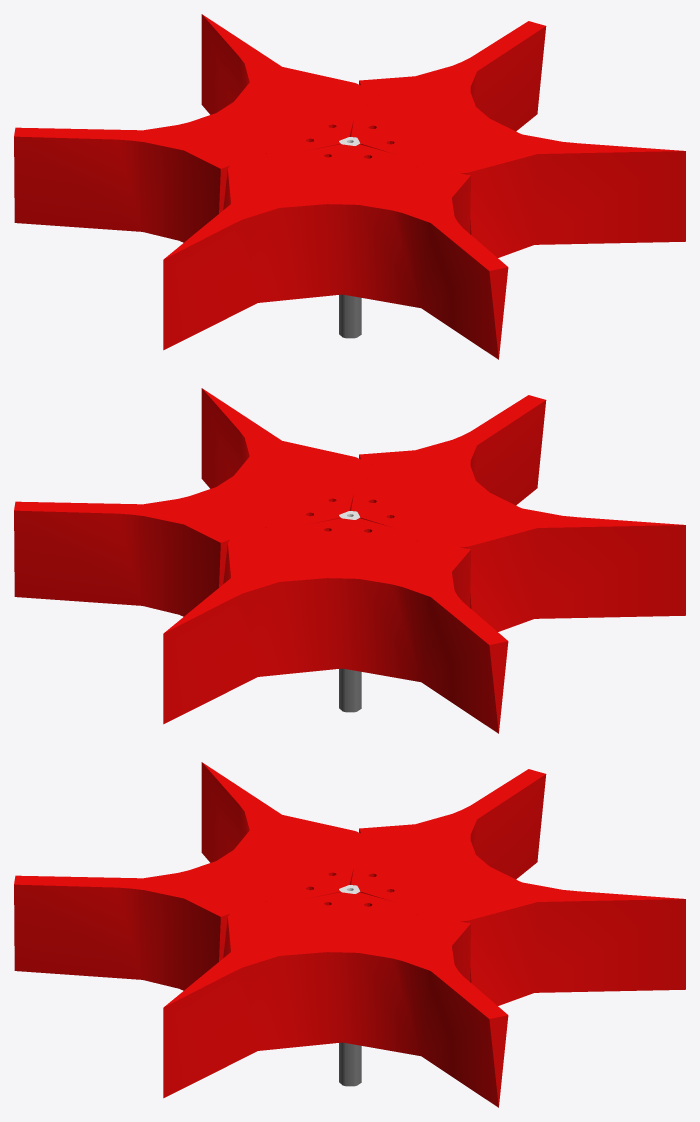
3 views of the same model, one above another, from view 1: azimuth 30°, elevation 25°; view 2: azimuth 150°, elevation 25°; view 3: azimuth 270°, elevation 25° (orthographic).
Visible parts, largest first — view 1: geometry_0, geometry_2; view 2: geometry_0, geometry_2; view 3: geometry_0, geometry_2.
Part boxes in pixels (left/top/right/bottom): geometry_0: left=14, top=14, right=685, bottom=359; geometry_2: left=339, top=143, right=361, bottom=338; geometry_0: left=14, top=388, right=685, bottom=733; geometry_2: left=339, top=517, right=361, bottom=712; geometry_0: left=14, top=762, right=685, bottom=1107; geometry_2: left=339, top=891, right=361, bottom=1086.
Bounding box in the file's own units: 0.3642 × 0.127 × 0.4023.
